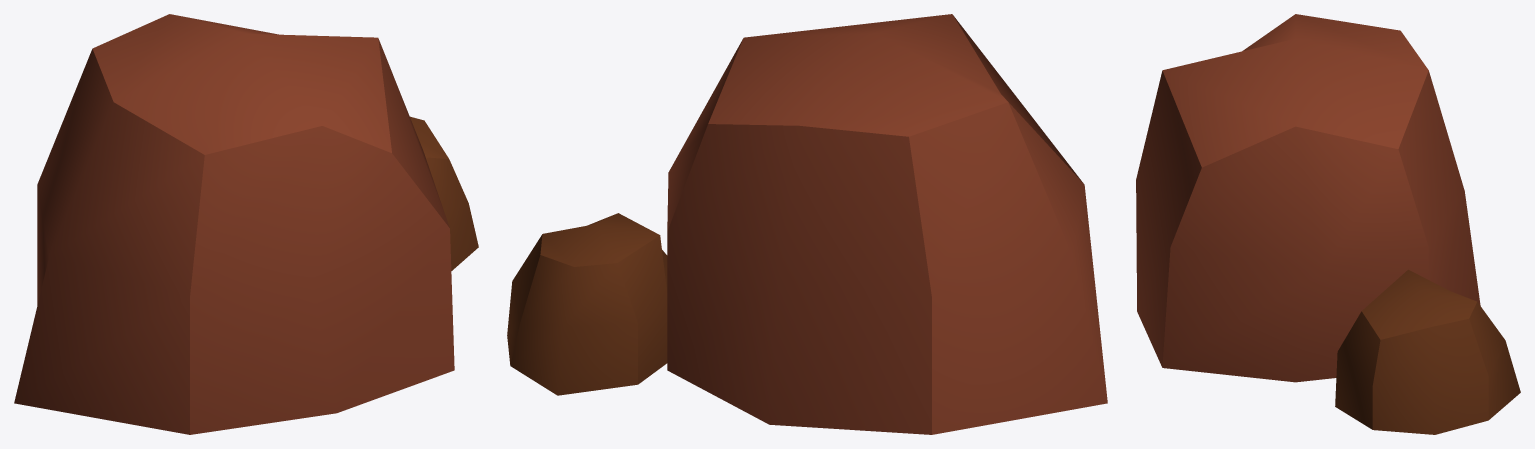
The model's file is rock3_red.gltf.
3 views of the same model, side by side, from view 1: azimuth 30°, elevation 25°; view 2: azimuth 150°, elevation 25°; view 3: azimuth 270°, elevation 25° (orthographic). The views are drawn at different scales.
Parts seen in each view (by area): view 1: pCube1, pCube2; view 2: pCube1, pCube2; view 3: pCube1, pCube2.
Boxes of the visible parts, bbox=[...] form: pCube1: bbox=[14, 14, 454, 434]; pCube2: bbox=[410, 116, 478, 270]; pCube1: bbox=[667, 14, 1107, 434]; pCube2: bbox=[507, 213, 667, 395]; pCube1: bbox=[1136, 14, 1480, 382]; pCube2: bbox=[1335, 269, 1520, 434].
Bounding box in the file's own units: 2.29 × 1.32 × 1.68.
